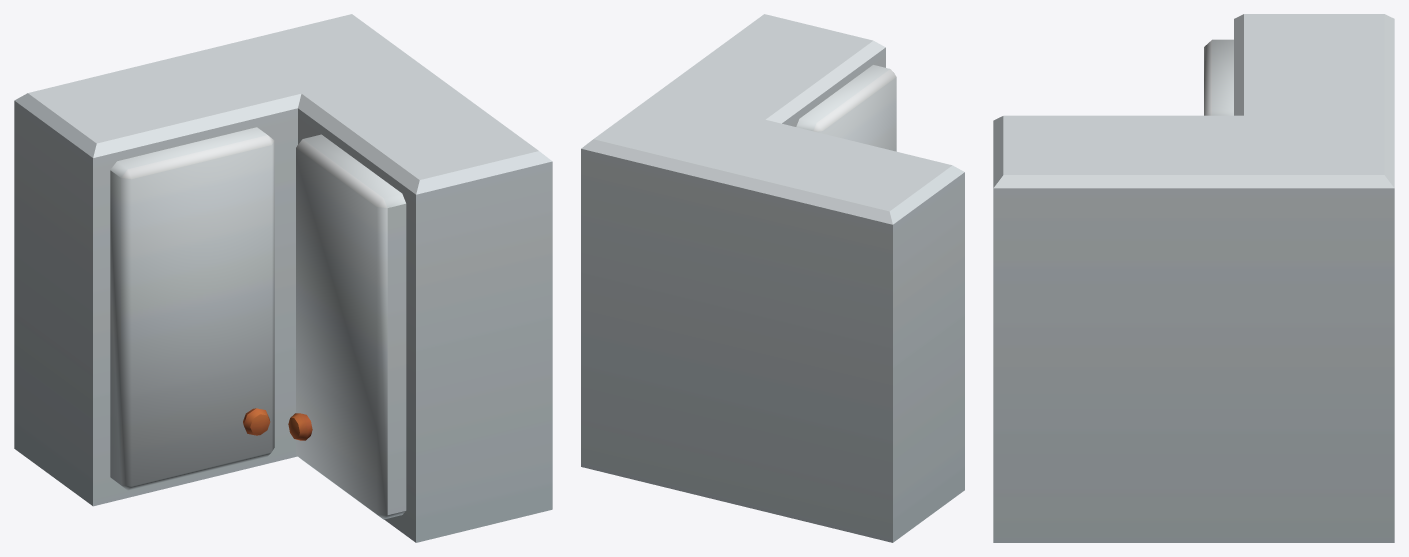
Rendered from cabinet_corner.glb.
The picture shows the model from 3 angles, left to right: view 1: azimuth 30°, elevation 25°; view 2: azimuth 150°, elevation 25°; view 3: azimuth 270°, elevation 25°; orthographic projection. The views are drawn at different scales.
Visible parts, largest first — view 1: kitchencabinet_corner; view 2: kitchencabinet_corner; view 3: kitchencabinet_corner.
Part boxes in pixels (bbox=[...]): kitchencabinet_corner: bbox=[14, 14, 552, 542]; kitchencabinet_corner: bbox=[581, 14, 964, 542]; kitchencabinet_corner: bbox=[993, 14, 1394, 542].
Bounding box in the file's own units: 2 × 2 × 2.
Materials: 1 (1 with a texture image).
